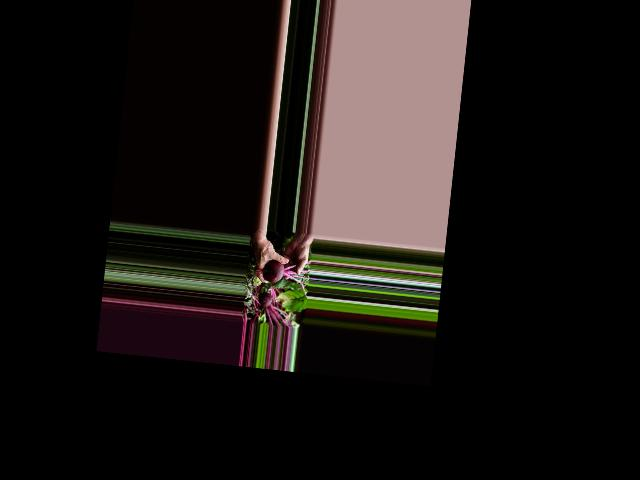beet: (260, 258, 310, 298)
